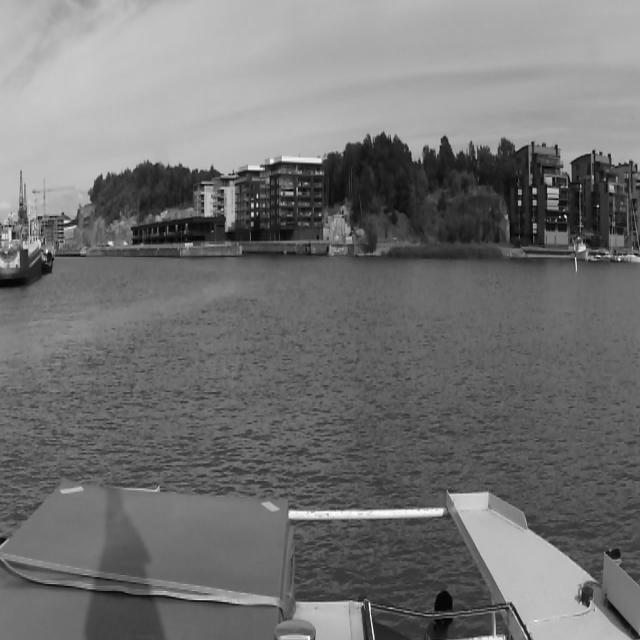buoy: (574, 245, 578, 271)
ship: (0, 233, 42, 286), (575, 235, 589, 262)
